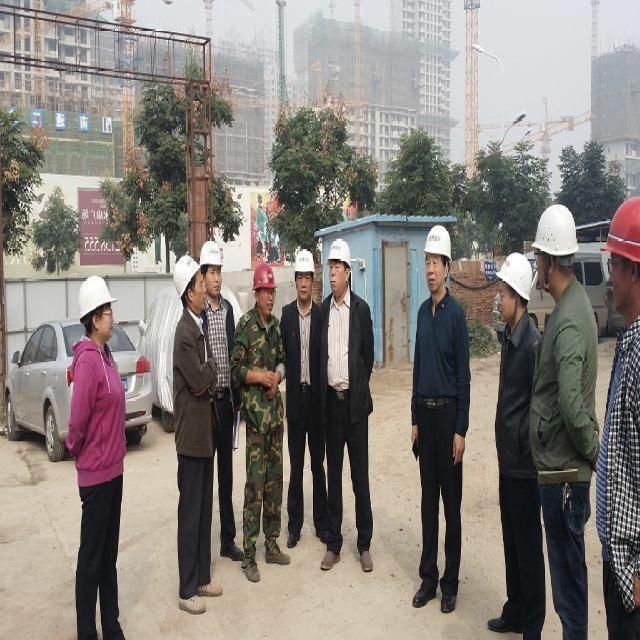10: (43, 265, 138, 640), (392, 221, 477, 622), (525, 202, 602, 640), (487, 245, 542, 640), (593, 191, 640, 639), (318, 231, 377, 583), (162, 256, 217, 614), (228, 259, 286, 591), (191, 238, 240, 572), (280, 240, 324, 538)
2: (59, 265, 132, 353), (411, 206, 472, 311), (529, 198, 586, 300), (602, 190, 640, 337), (196, 220, 258, 310), (146, 240, 203, 326), (487, 250, 541, 337), (284, 236, 329, 323), (240, 241, 282, 326), (324, 214, 357, 310)
helmet_white: (411, 584, 438, 610), (485, 616, 523, 634), (176, 594, 206, 615), (264, 543, 291, 566), (242, 552, 262, 583), (218, 540, 244, 561), (318, 548, 341, 570), (438, 588, 457, 614), (195, 582, 223, 598), (285, 530, 302, 550), (359, 549, 373, 572), (313, 528, 330, 544)
